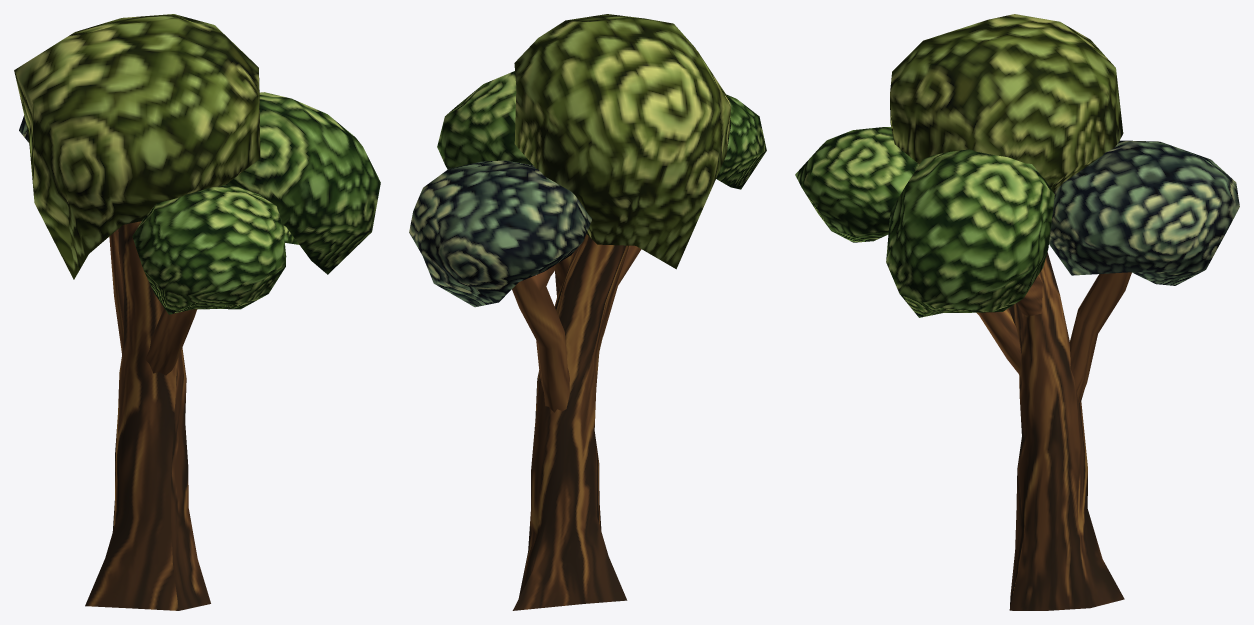
The model's file is Ntree_5.fbx.
3 renders of one model, left to right at view 1: azimuth 30°, elevation 25°; view 2: azimuth 150°, elevation 25°; view 3: azimuth 270°, elevation 25°, orthographic. The views are drawn at different scales.
Visible parts, largest first — view 1: Ntree_5; view 2: Ntree_5; view 3: Ntree_5.
Part boxes in pixels (<box>): Ntree_5: <box>14,14,380,610</box>; Ntree_5: <box>409,14,766,610</box>; Ntree_5: <box>795,14,1239,610</box>.
Size of the model in its own units: 146 by 266 by 194.
